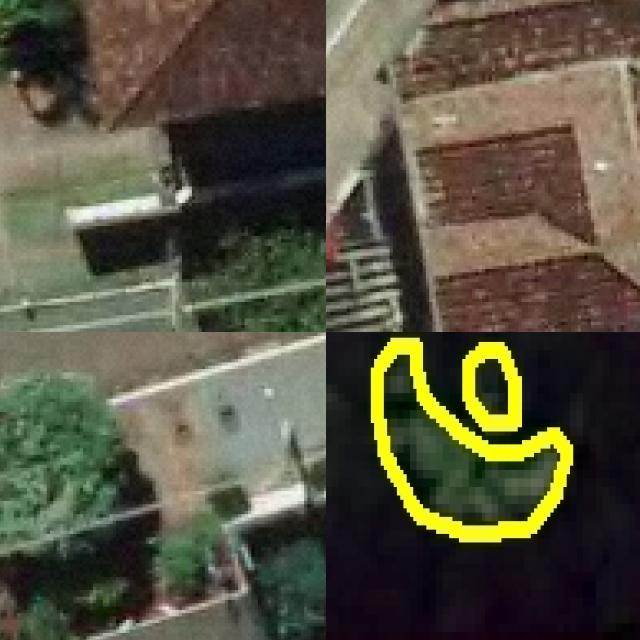trees: (375, 343, 568, 535), (1, 377, 140, 549), (196, 227, 327, 333), (1, 1, 87, 120), (467, 347, 515, 424)
